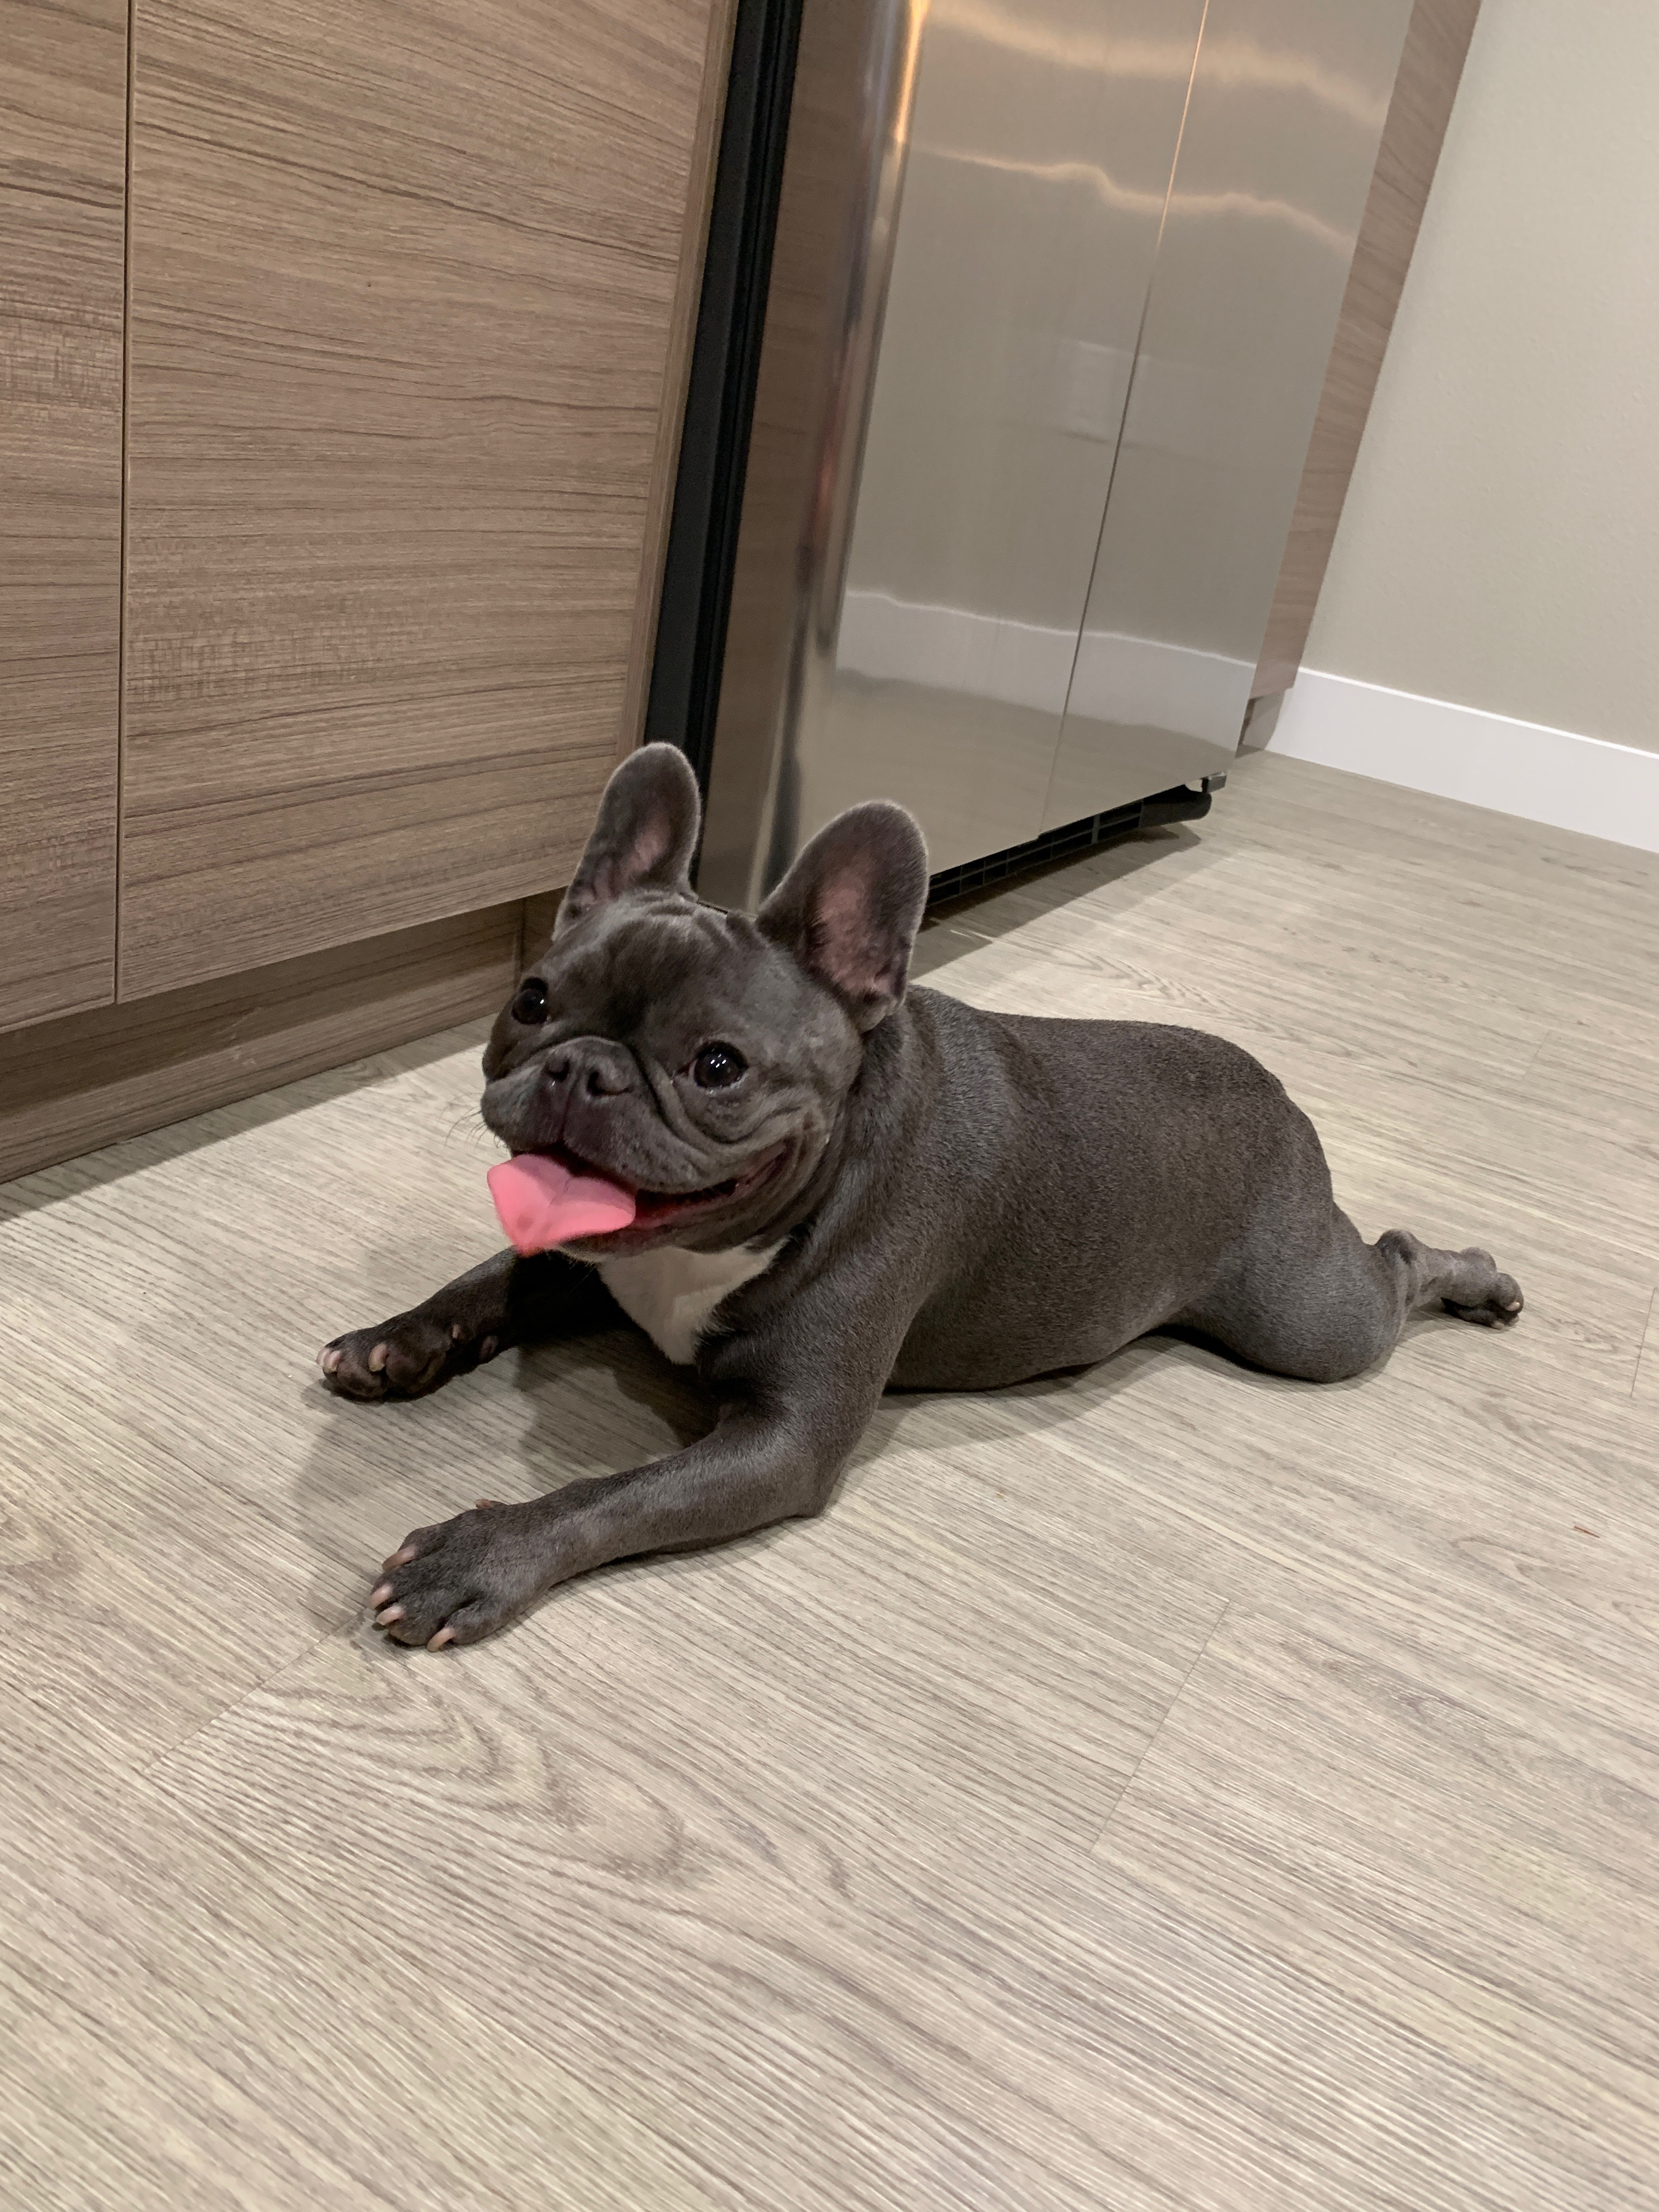lucy: (303, 733, 1532, 1651)
